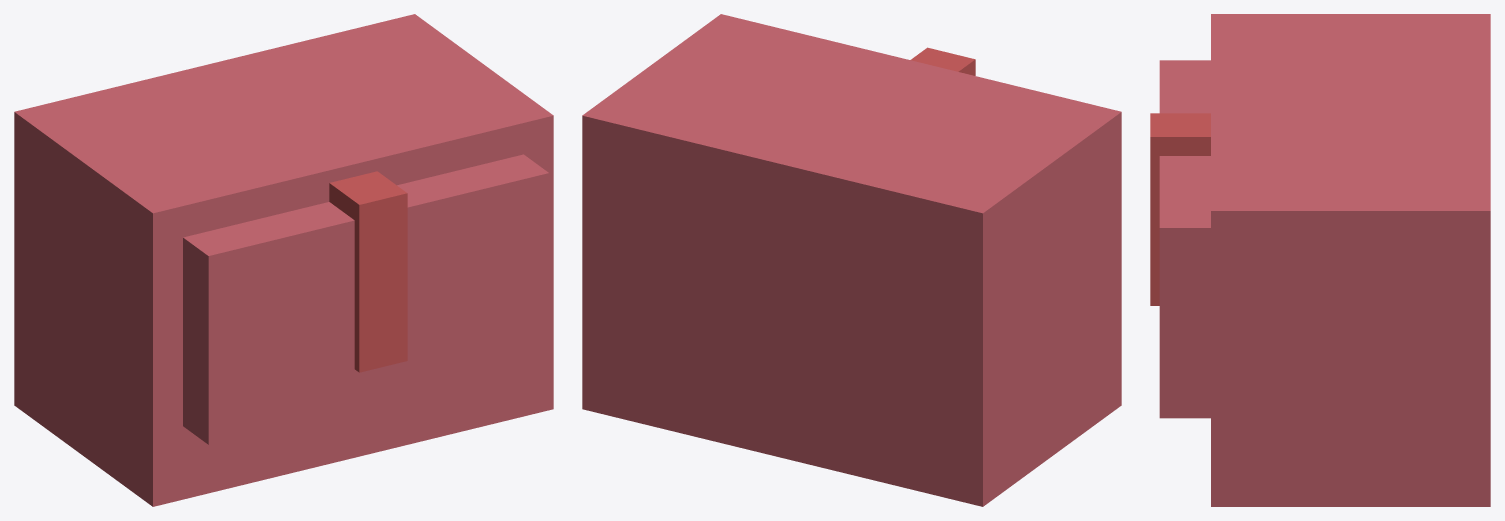
The model's file is body_003_valkyrion.glb.
3 views of the same model, side by side, from view 1: azimuth 30°, elevation 25°; view 2: azimuth 150°, elevation 25°; view 3: azimuth 270°, elevation 25° (orthographic).
Parts seen in each view (by area): view 1: geometry_0, geometry_1, geometry_2; view 2: geometry_0, geometry_2; view 3: geometry_0, geometry_1, geometry_2.
Part boxes in pixels (x1,y1,x2,y2): geometry_0: (14,14,553,506); geometry_1: (183,154,549,444); geometry_2: (329,171,407,372); geometry_0: (582,14,1121,506); geometry_2: (910,47,975,75); geometry_0: (1211,14,1490,506); geometry_1: (1159,60,1210,418); geometry_2: (1150,113,1210,305).
Size of the model in its own units: 1 by 0.7 by 0.73.
